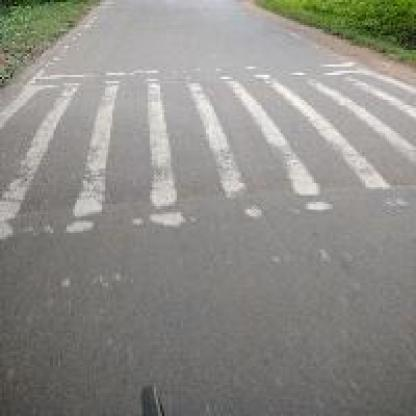Speed Bump: (0, 58, 414, 242)
